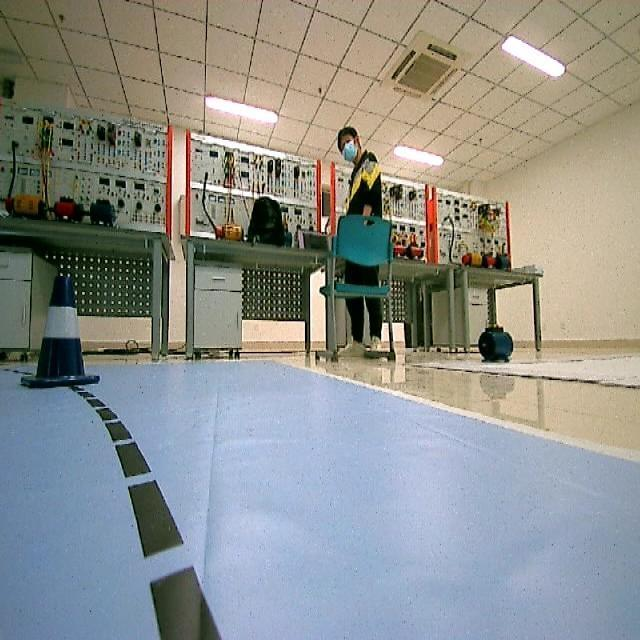obstacle: (15, 260, 106, 396)
